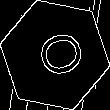O_W: (25, 26, 85, 84)
